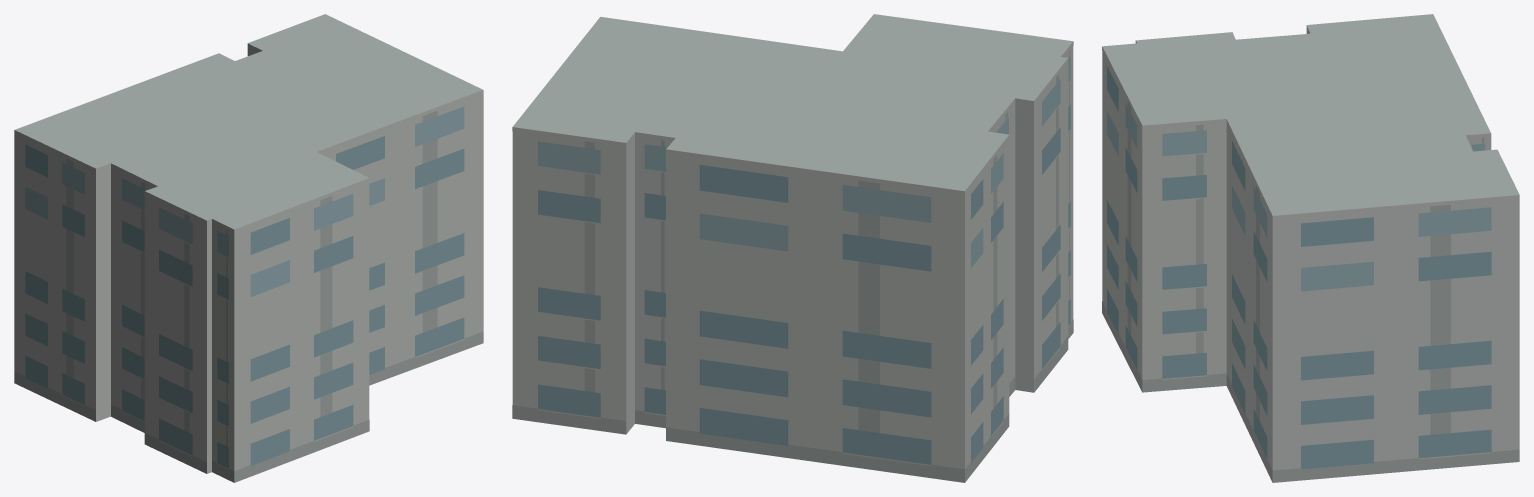
Rendered from survey-upis-32748726.glb.
3 renders of one model, left to right at view 1: azimuth 30°, elevation 25°; view 2: azimuth 150°, elevation 25°; view 3: azimuth 270°, elevation 25°, orthographic. The views are drawn at different scales.
Parts seen in each view (by area): view 1: survey-upis-32748726.tmp; view 2: survey-upis-32748726.tmp; view 3: survey-upis-32748726.tmp.
Boxes of the visible parts, x1=… form: survey-upis-32748726.tmp: x1=14, y1=14, x2=483, y2=482; survey-upis-32748726.tmp: x1=512, y1=14, x2=1073, y2=482; survey-upis-32748726.tmp: x1=1102, y1=14, x2=1519, y2=482.
Size of the model in its own units: 27.43 by 16.9 by 23.97.
